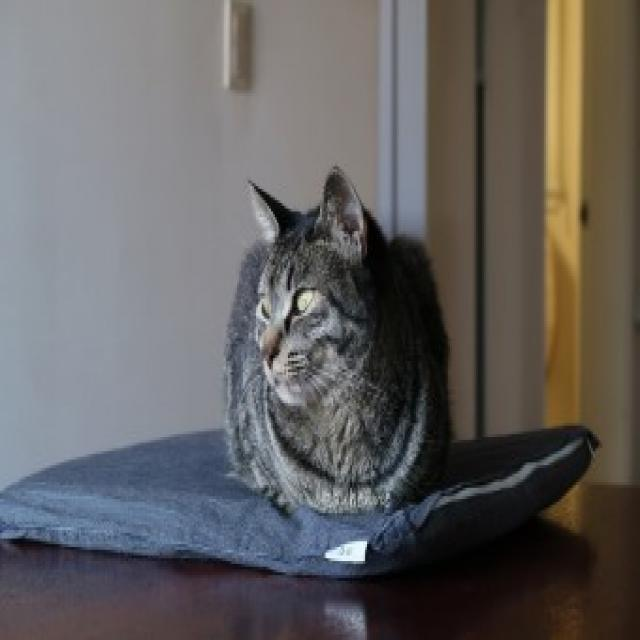cat: (221, 164, 457, 534)
